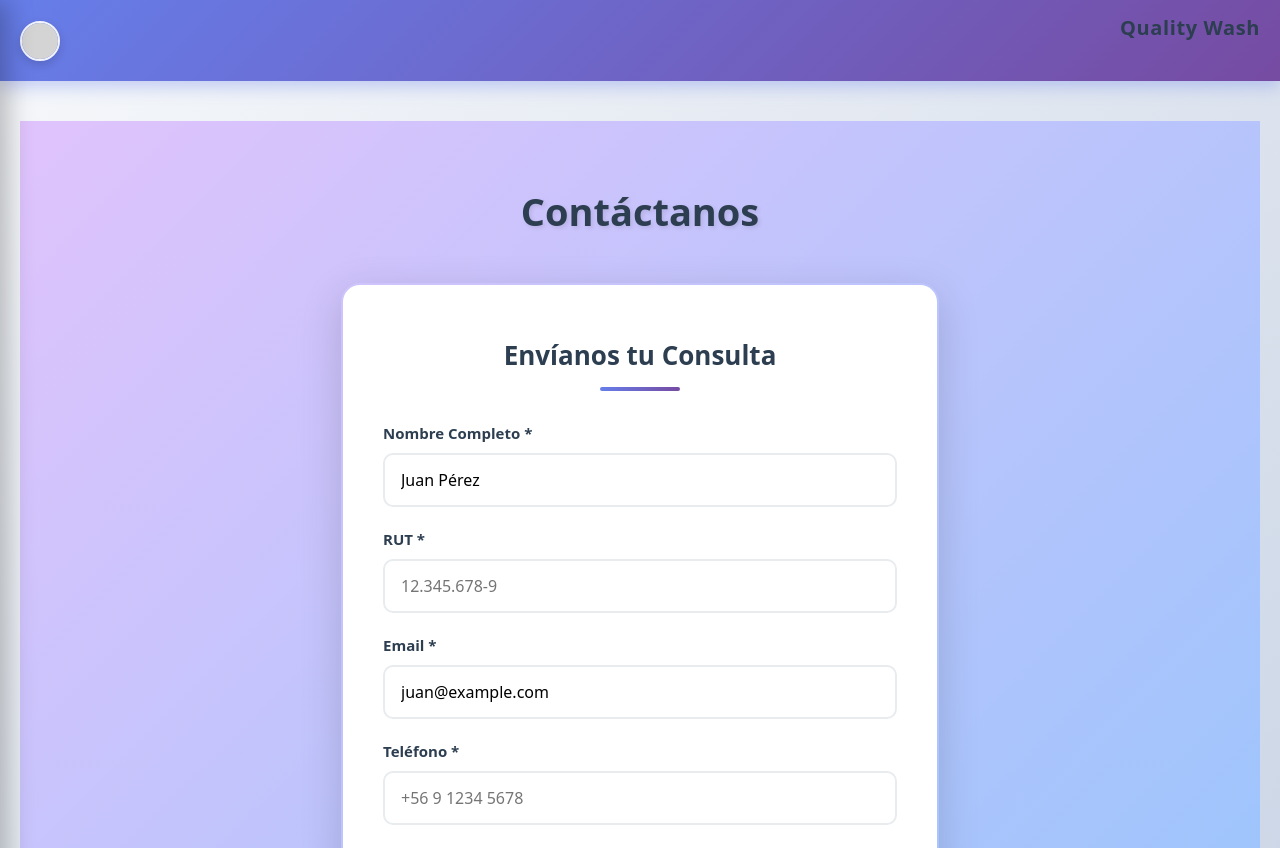
Scenario: Contacto Component › Limpieza de errores al escribir › limpia el error del nombre cuando el usuario empieza a escribir
Clear the field labelled "Nombre Completo *" at (640, 480), box left=383, top=453, right=897, bottom=507
(page scrolled)
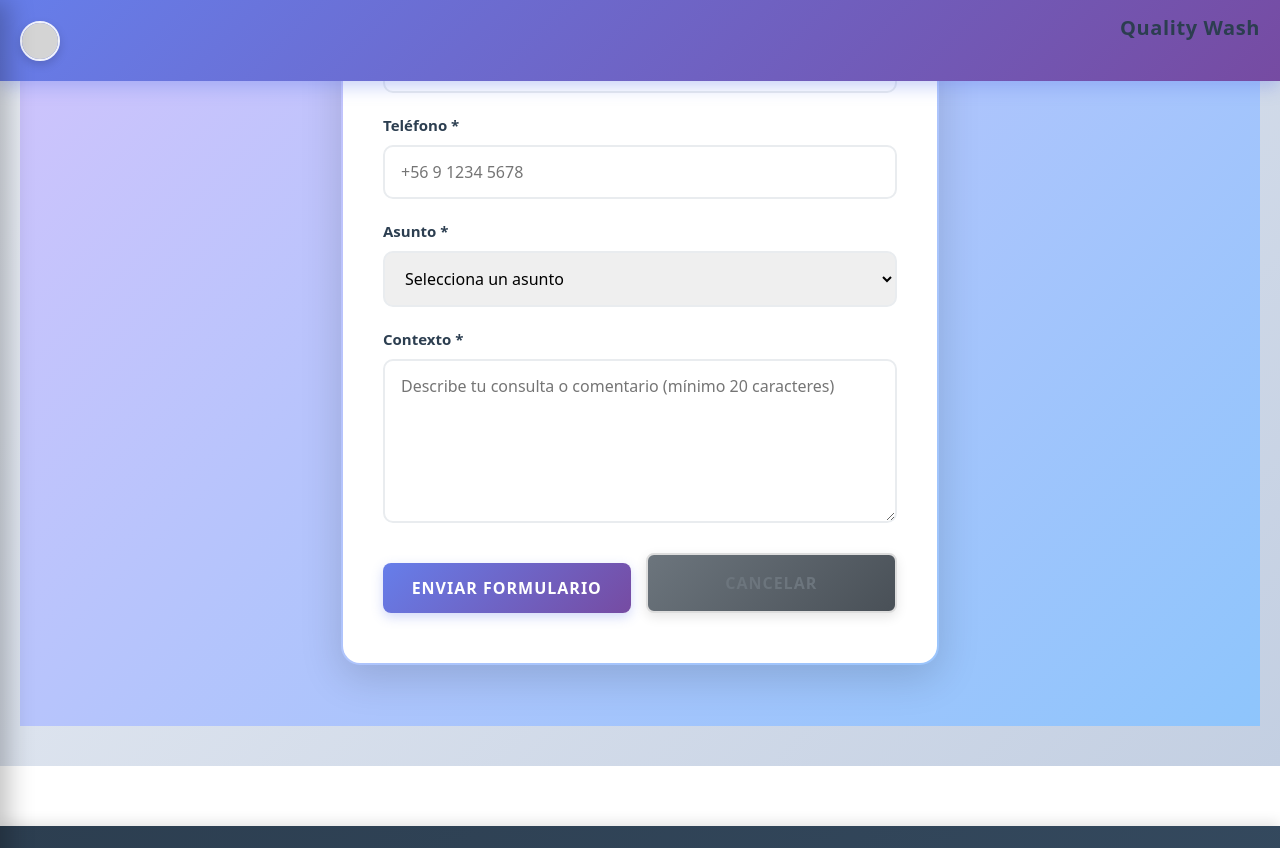
Click the button "Enviar Formulario" at (507, 588), box left=383, top=563, right=630, bottom=613
(page scrolled)
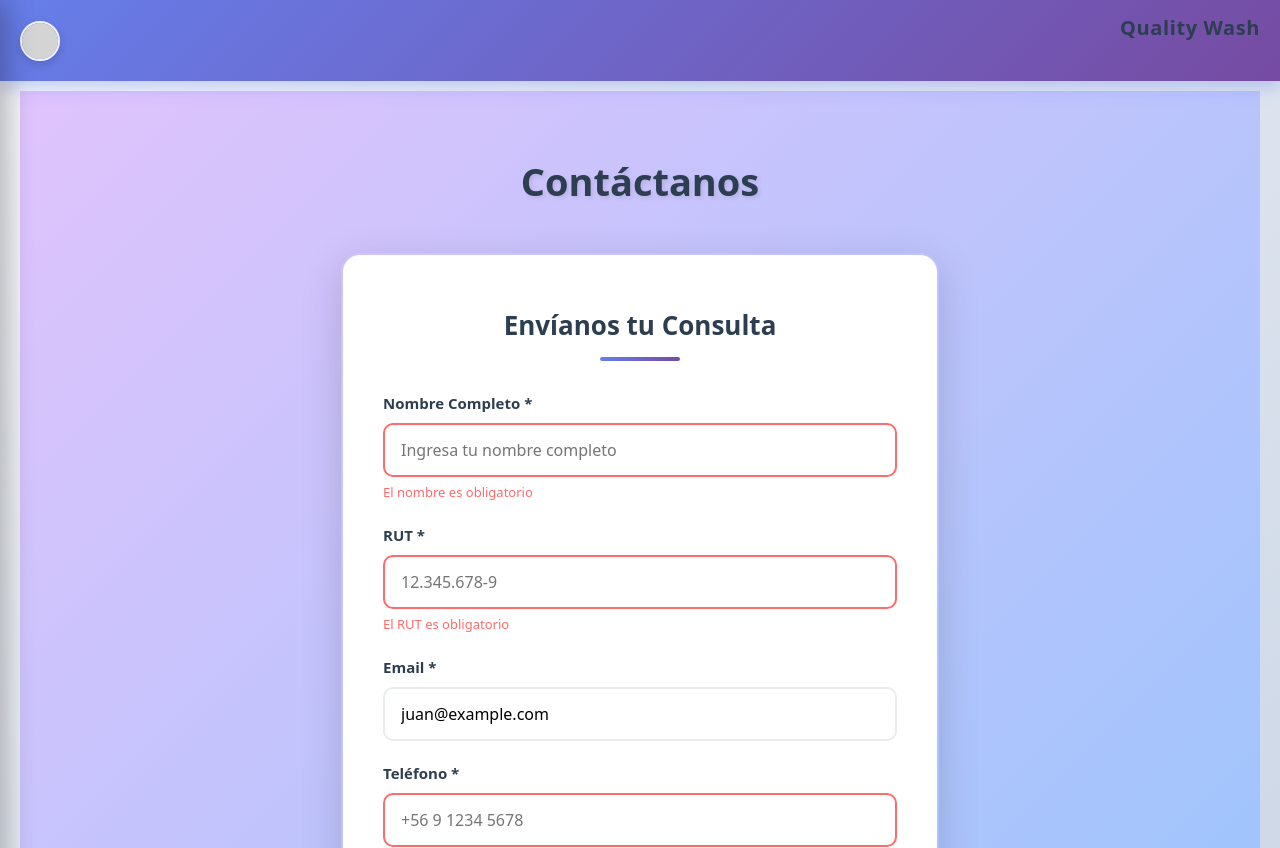
Result: the text "El nombre es obligatorio" is shown at left=383, top=483, right=533, bottom=501
Type "Carlos" into the field labelled "Nombre Completo *" at (640, 450), box left=383, top=423, right=897, bottom=477
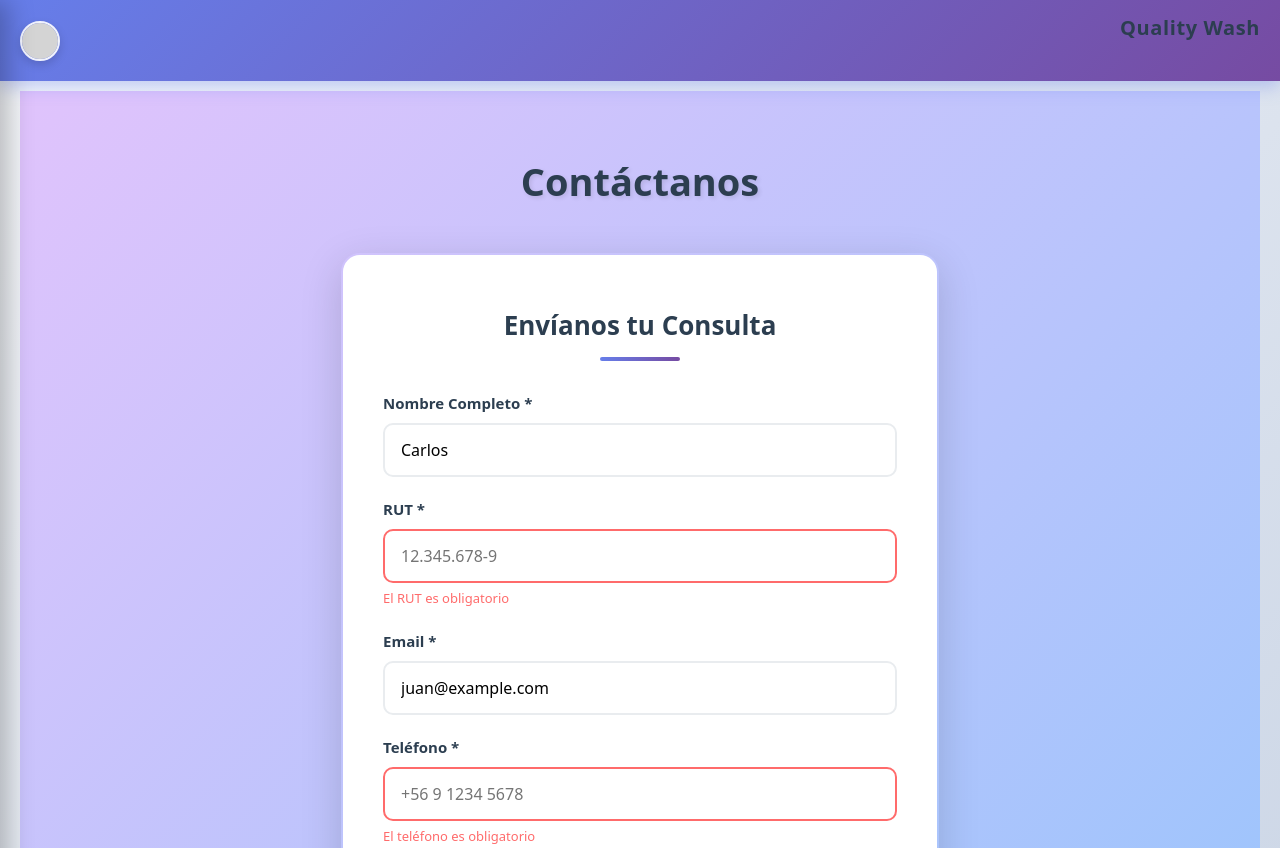
Result: the text "El nombre es obligatorio" is gone
